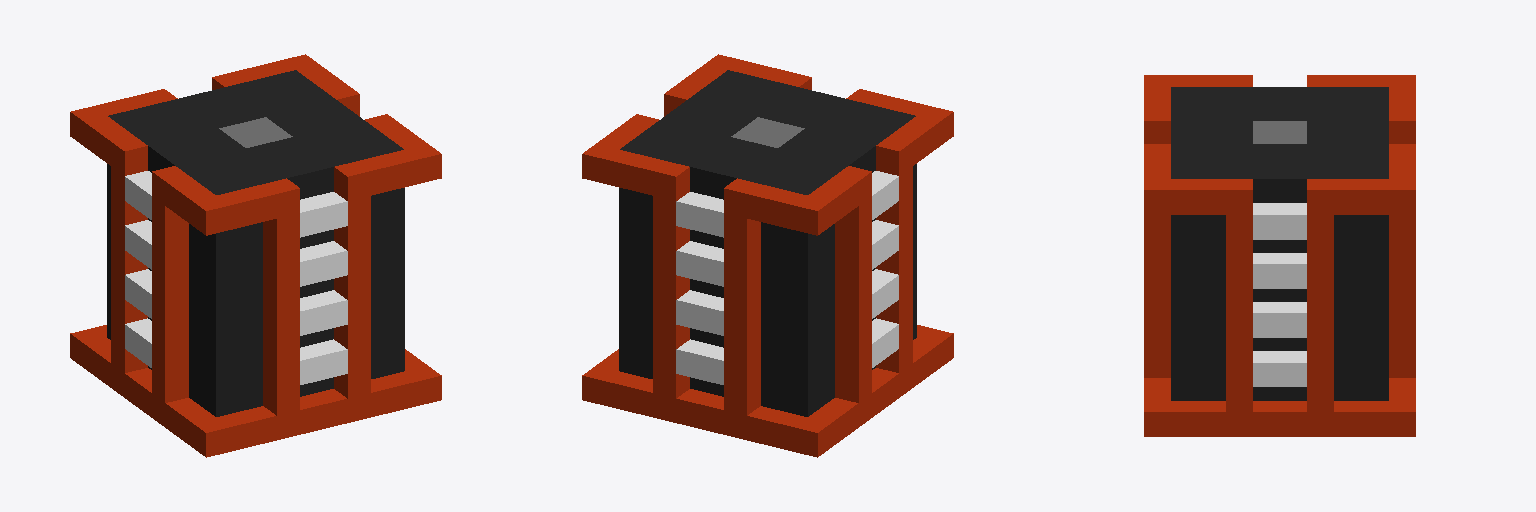
The picture shows the model from 3 angles: view 1: azimuth 30°, elevation 25°; view 2: azimuth 150°, elevation 25°; view 3: azimuth 270°, elevation 25°; orthographic projection.
Size of the model in its own units: 10 by 10 by 10.
Materials: 1 (1 with a texture image).